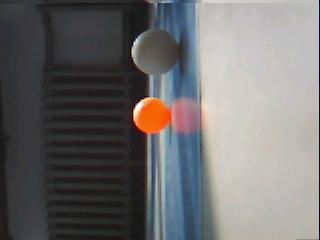oball: (133, 97, 170, 133)
